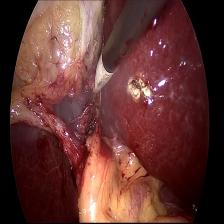Hook: (90, 55, 115, 100)
